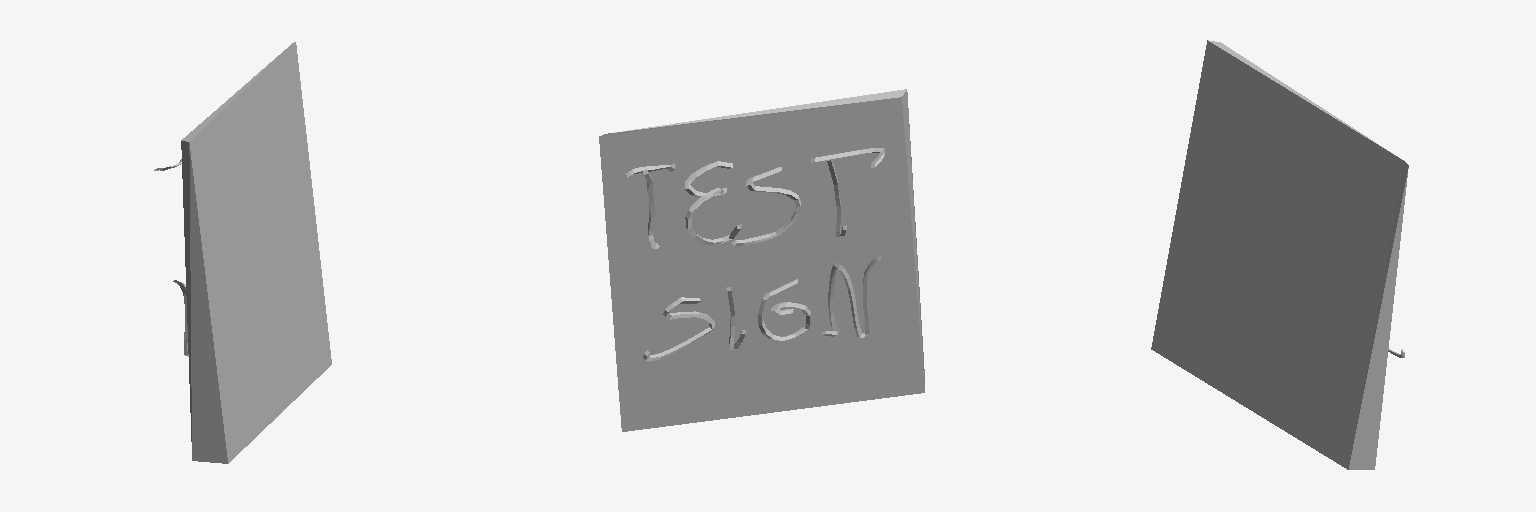
The model's file is testsign.obj.
3 renders of one model, left to right at view 1: azimuth 30°, elevation 25°; view 2: azimuth 150°, elevation 25°; view 3: azimuth 270°, elevation 25°, orthographic.
Parts seen in each view (by area): view 1: group[number redacted]; view 2: group[number redacted], group[number redacted], group[number redacted], group[number redacted], group[number redacted], group[number redacted]; view 3: group[number redacted].
Boxes of the visible parts, box(x1,y1,x2,y2) form: group[number redacted]: box(181, 42, 331, 463); group[number redacted]: box(599, 89, 924, 431); group[number redacted]: box(822, 256, 880, 337); group[number redacted]: box(685, 161, 741, 245); group[number redacted]: box(732, 167, 800, 245); group[number redacted]: box(758, 279, 811, 340); group[number redacted]: box(643, 297, 714, 361); group[number redacted]: box(1151, 40, 1408, 469).
Bounding box in the file's own units: 0.382 × 0.5477 × 0.3863.